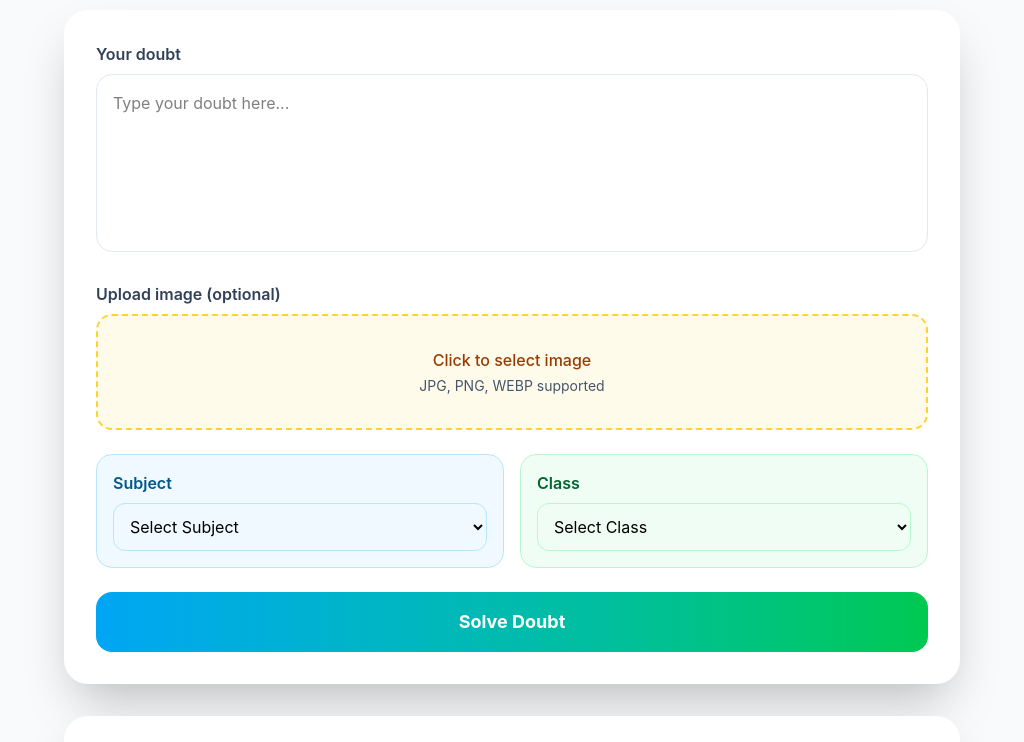
Test: AskDoubt › submits a doubt successfully
expect the button "Solve Doubt" is enabled: met, box top-left (96, 592), bottom-right (928, 652)
Type "What is 2+2?" into the text box with placeholder "Type your doubt here..." at (512, 163), box top-left (96, 74), bottom-right (928, 252)
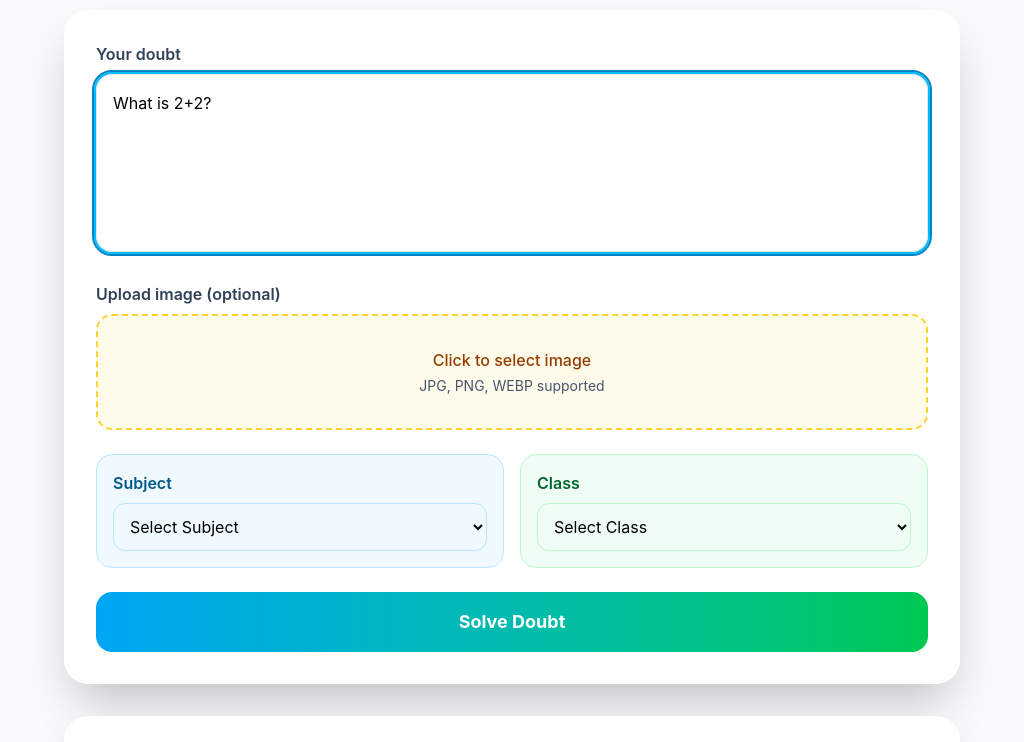
Select "Mathematics" in the dropdown labelled "Subject" at (300, 527), box top-left (113, 503), bottom-right (487, 551)
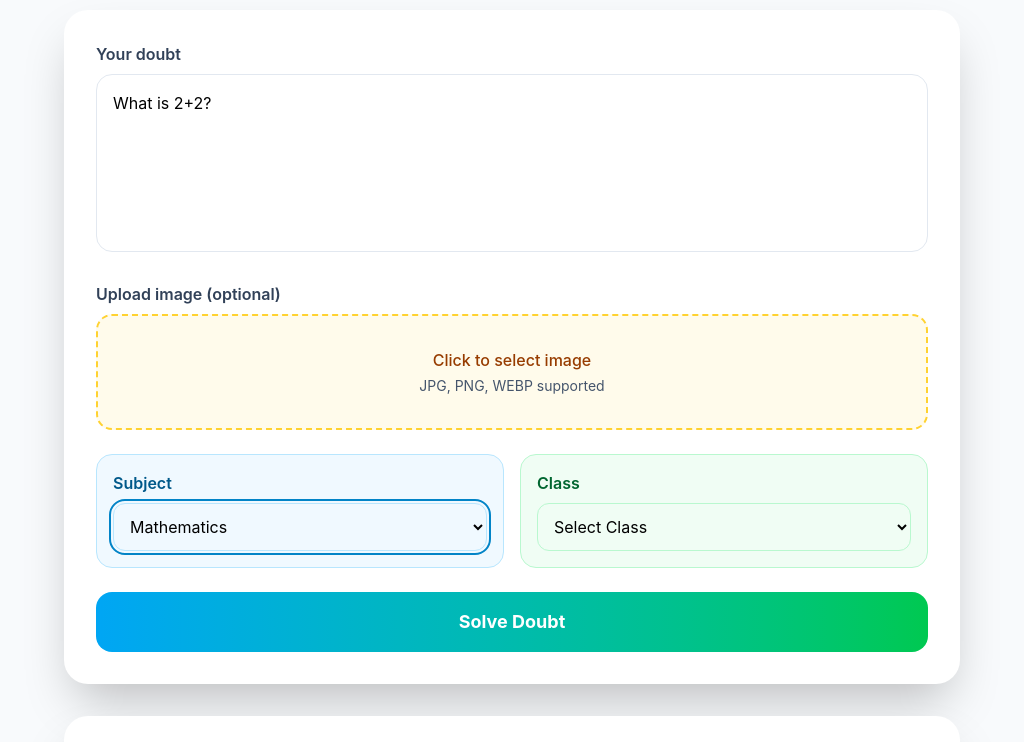
Select "Class 8" in the dropdown labelled "Class" at (724, 527), box top-left (537, 503), bottom-right (911, 551)
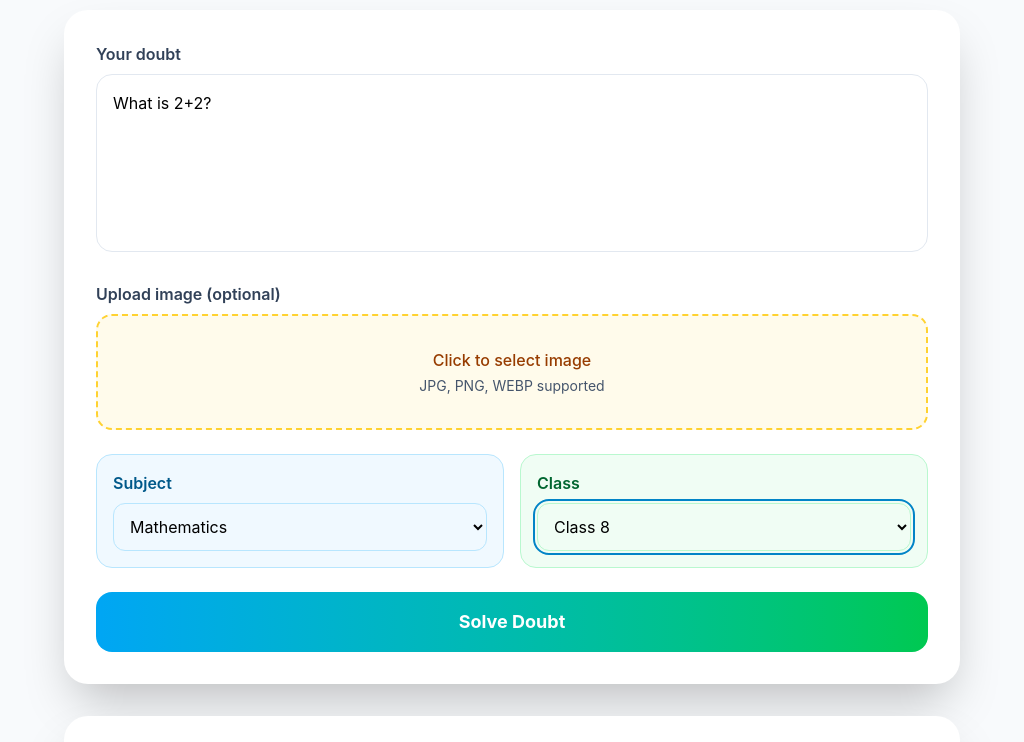
Click the button "Solve Doubt" at (512, 622), box top-left (96, 592), bottom-right (928, 652)
(page scrolled)
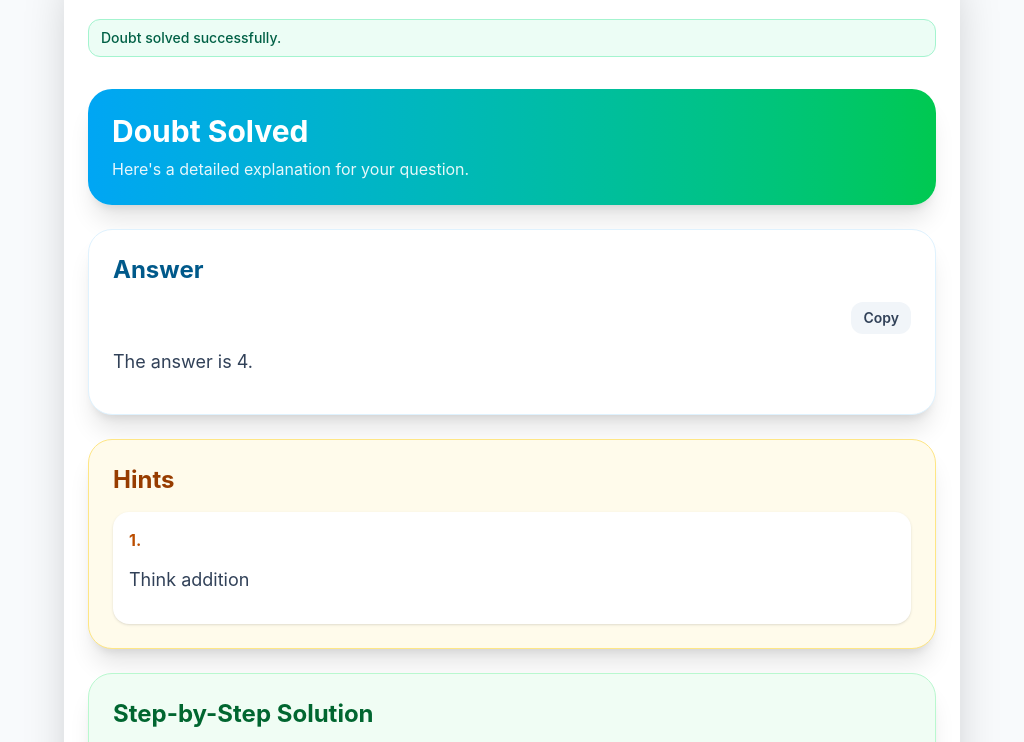
expect the text "The answer is 4." is shown: met, box top-left (113, 351), bottom-right (253, 372)
